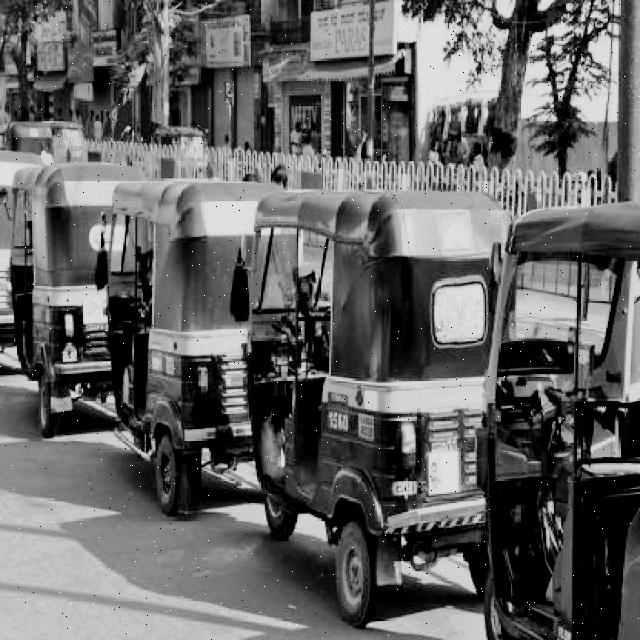Auto-Rickshaw: (243, 186, 505, 640), (98, 171, 257, 530), (5, 160, 122, 448)
